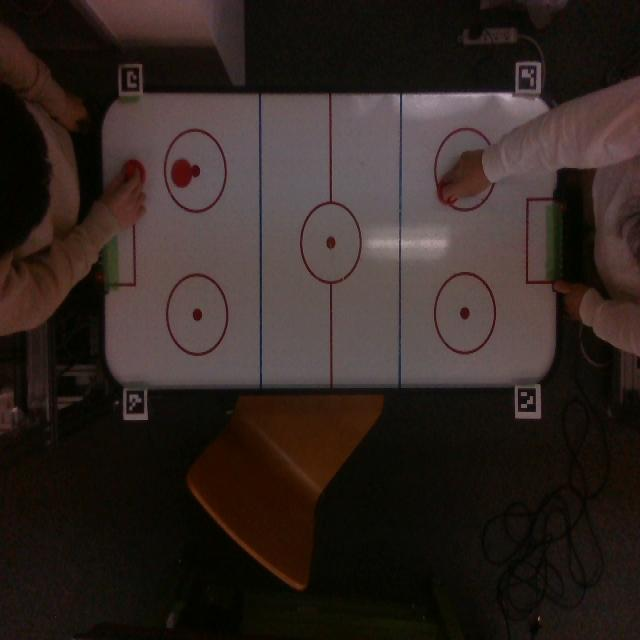puck: (171, 158, 192, 188)
